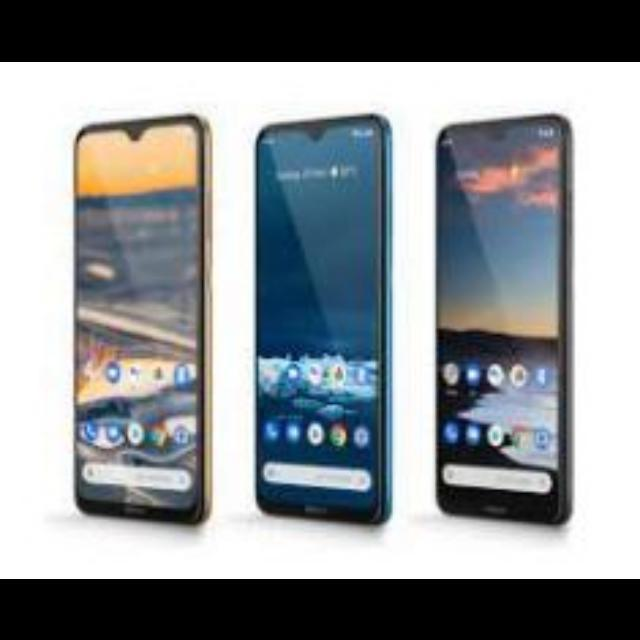Phone: (72, 116, 216, 524), (434, 114, 574, 526), (252, 111, 390, 522)
